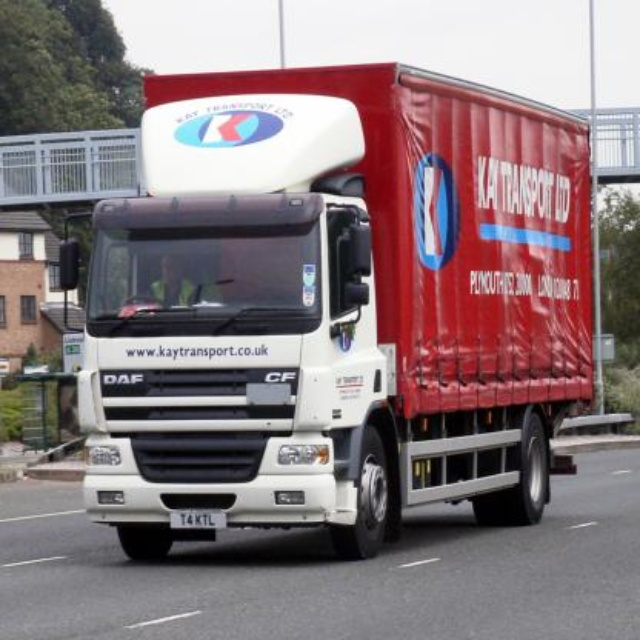Truck: (60, 66, 581, 585)
